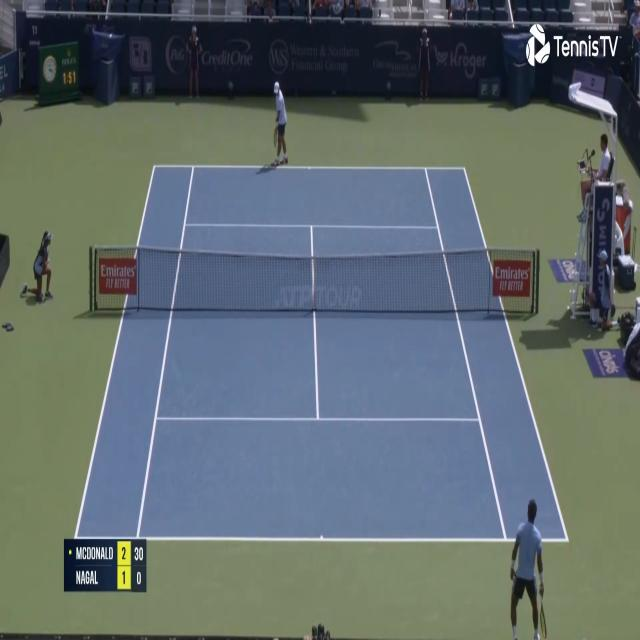tennis-player: (508, 496, 548, 640), (267, 76, 291, 172)
